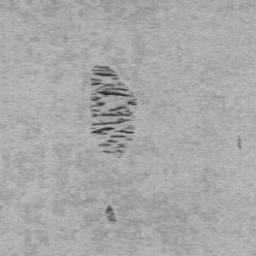Secondary rust skin: (89, 64, 138, 154)
